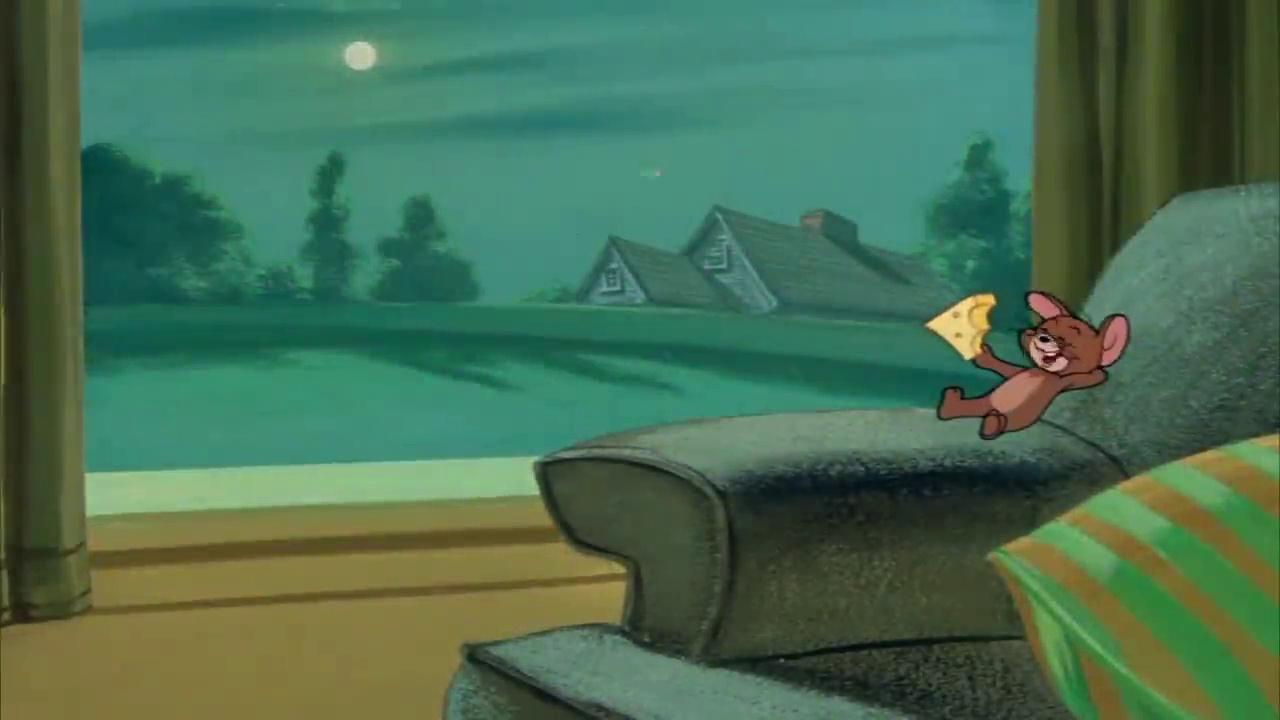Jerry: (934, 286, 1133, 441)
